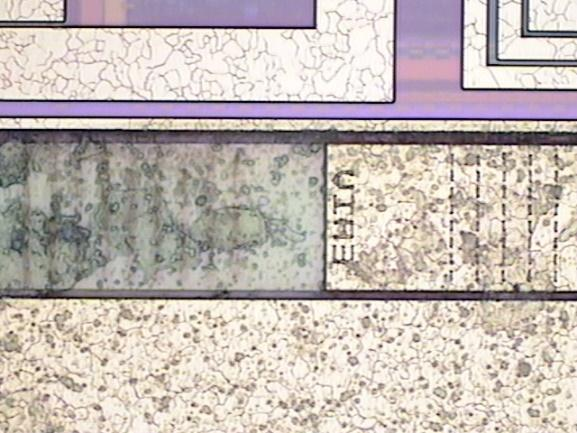PO CONTAMINATION: (1, 119, 577, 433)
